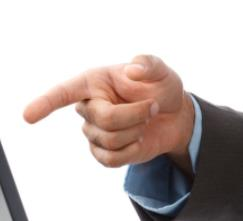up: (23, 53, 186, 171)
